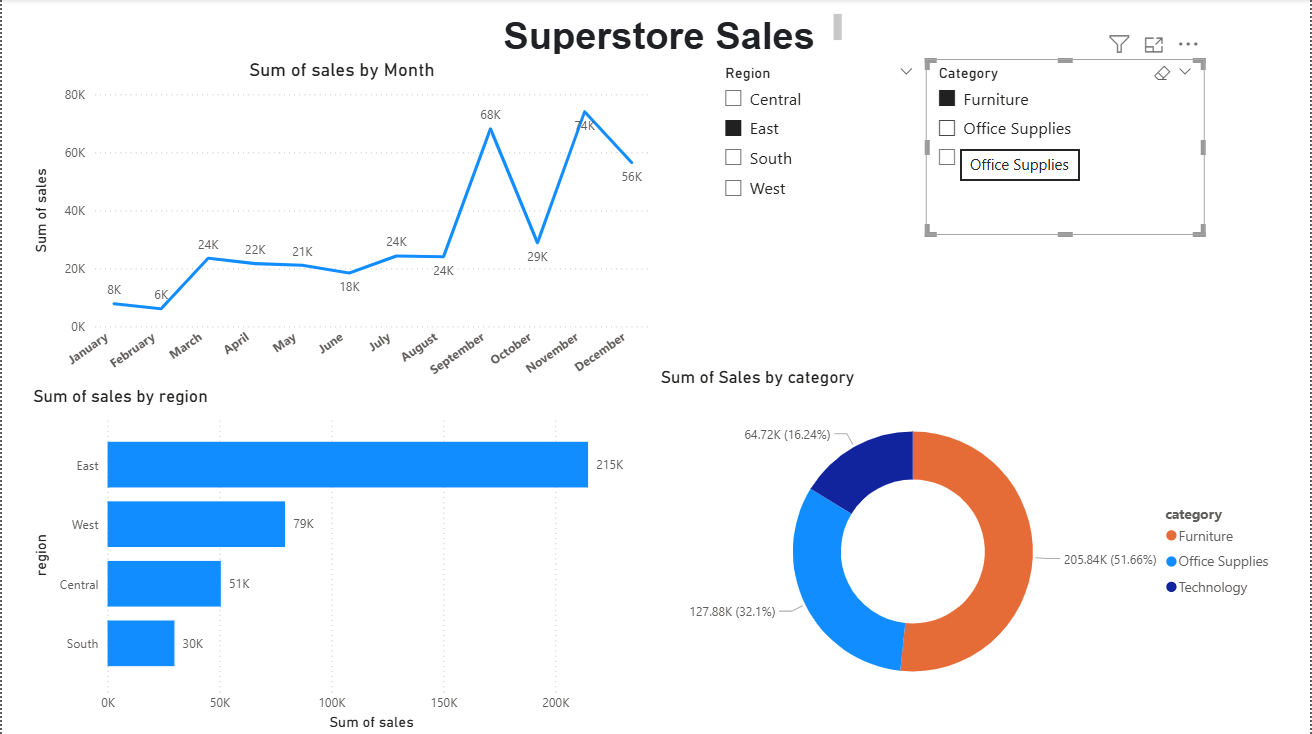

The dashboard page shown, as its layout file describes it:
{"tool":"powerbi","page":{"name":"Page 1","canvas":[1280,720],"ordinal":0},"visuals":[{"type":"lineChart","fields":{"Category":["orders.order_date.Variation.Date Hierarchy.Month"],"Y":["Sum(sales (1).sales)"]},"box":[25.7,58.7,613.9,343.6],"z":0},{"type":"barChart","fields":{"Y":["Sum(sales (1).sales)"],"Category":["customers (1).region"]},"box":[26.1,377.4,613.4,343.1],"z":1},{"type":"donutChart","fields":{"Category":["products (2).category"],"Y":["Sum(OrignalDataSet - Superstore.Sales)"]},"box":[639.5,359.5,613.4,343.1],"z":2},{"type":"slicer","fields":{"Values":["OrignalDataSet - Superstore.Region"]},"box":[694.6,58.7,209.1,300.8],"z":3},{"type":"slicer","fields":{"Values":["OrignalDataSet - Superstore.Category"]},"box":[903.7,58.7,272.7,172.4],"z":4},{"type":"textbox","box":[485.5,9.8,341.2,48.9],"z":5}]}

Visuals, with their boxes in screenshot pixels (x1, y1, x2, y2), scaled from the page's 1280x720 canvas onto the 1312x734 screenshot:
lineChart - orders.order_date.Variation.Date Hierarchy.Month x Sum(sales (1).sales): x1=26 y1=60 x2=656 y2=410
barChart - Sum(sales (1).sales) x customers (1).region: x1=27 y1=385 x2=655 y2=733
donutChart - products (2).category x Sum(OrignalDataSet - Superstore.Sales): x1=655 y1=366 x2=1284 y2=716
slicer - OrignalDataSet - Superstore.Region: x1=712 y1=60 x2=926 y2=366
slicer - OrignalDataSet - Superstore.Category: x1=926 y1=60 x2=1206 y2=236
textbox: x1=498 y1=10 x2=847 y2=60
